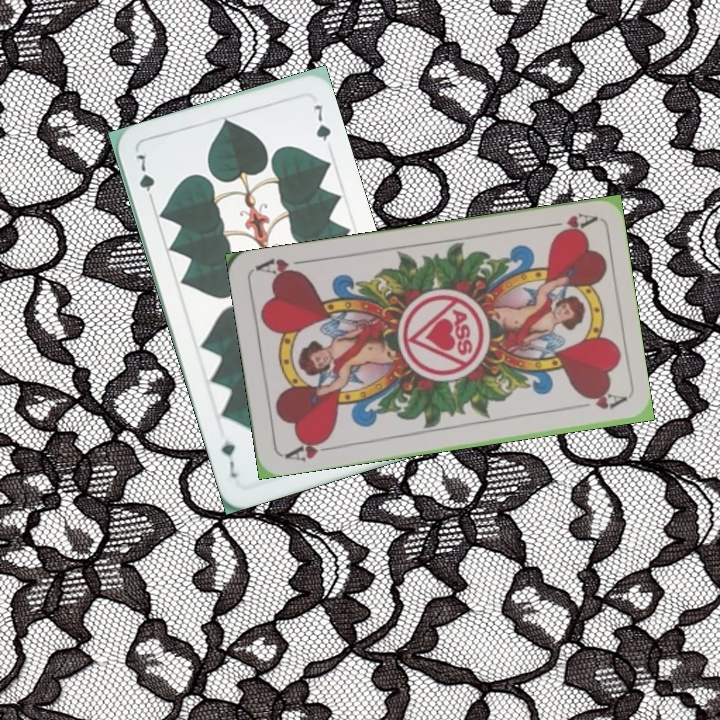G7: (132, 150, 158, 207)
HA: (280, 433, 339, 464), (539, 208, 598, 238)
